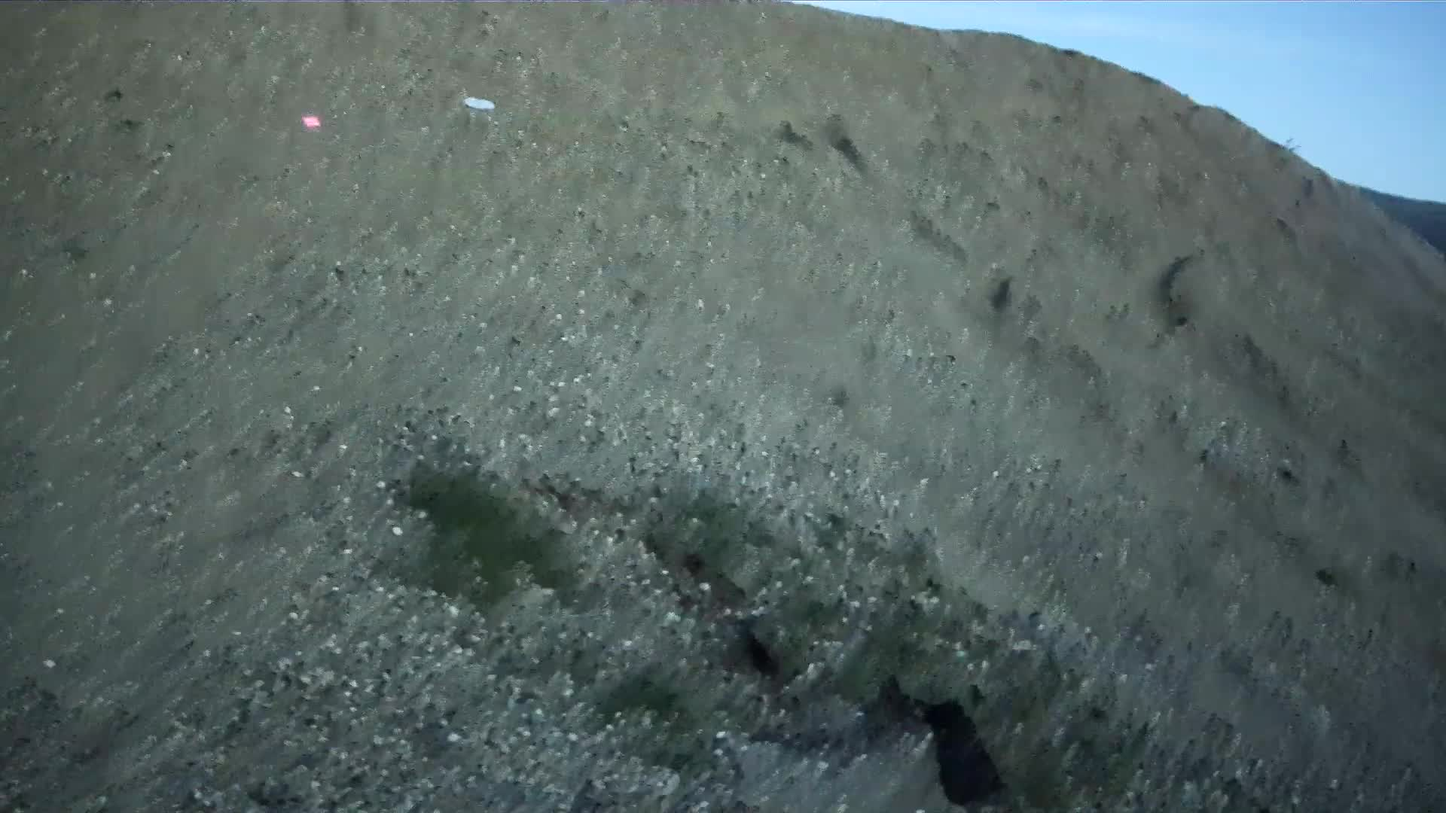Target: (464, 97, 495, 109)
